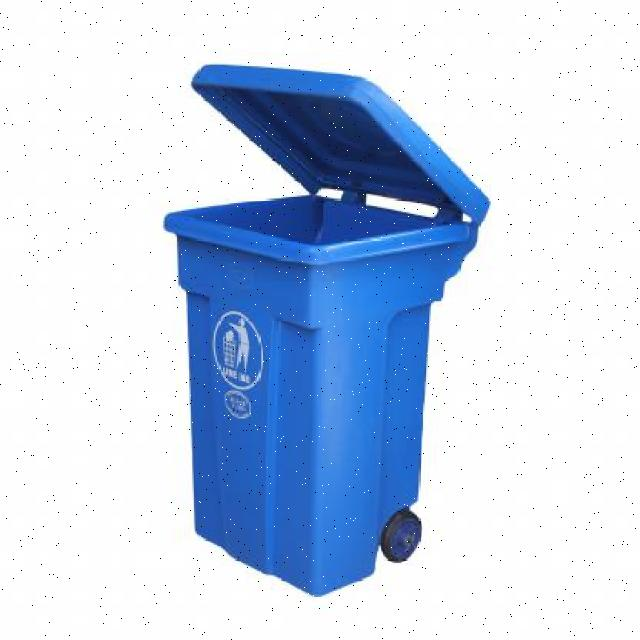garbage container: (136, 48, 515, 614)
